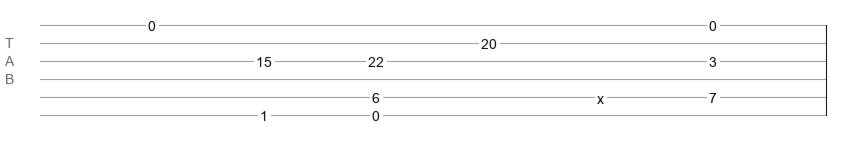0: (148, 18, 156, 28), (372, 108, 380, 118), (709, 18, 717, 28)
1: (260, 108, 268, 118)
15: (256, 54, 272, 64)
20: (481, 36, 497, 46)
22: (368, 54, 384, 64)
3: (709, 54, 717, 64)
6: (372, 90, 380, 100)
7: (709, 90, 717, 100)
x: (597, 91, 604, 99)
